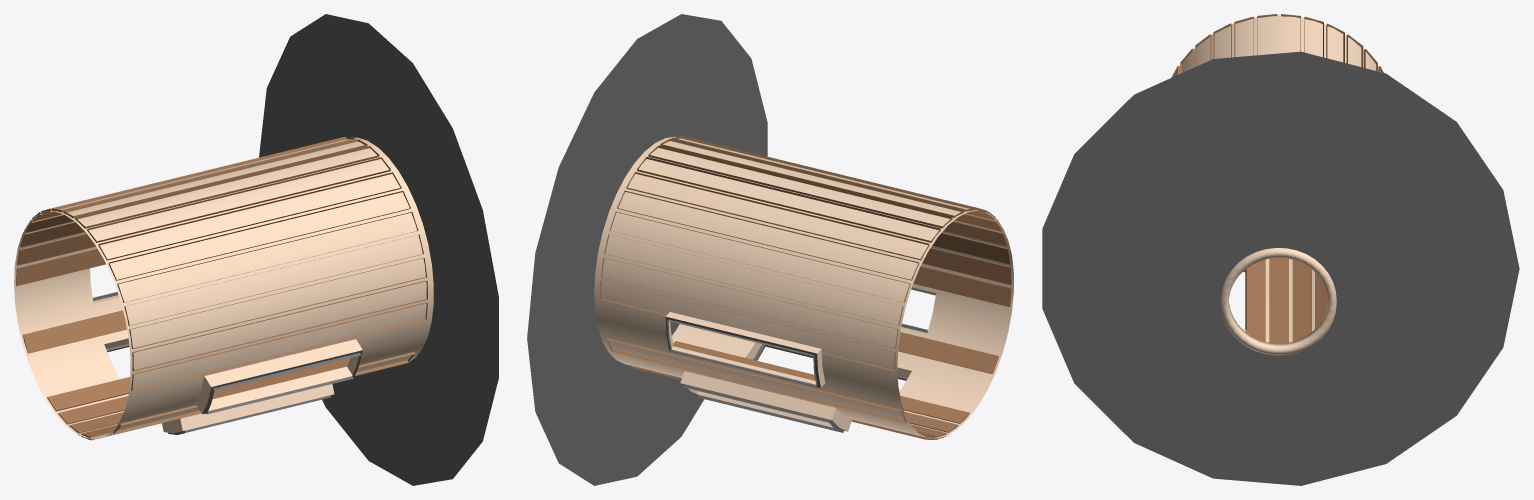
File: saunaRoom.fbx
3 views of the same model, side by side, from view 1: azimuth 30°, elevation 25°; view 2: azimuth 150°, elevation 25°; view 3: azimuth 270°, elevation 25° (orthographic).
Visible parts, largest first — view 1: saunaRoom; view 2: saunaRoom; view 3: saunaRoom.
Part boxes in pixels (box(x1,y1,x2,y2)): saunaRoom: box(14, 14, 498, 485); saunaRoom: box(527, 14, 1013, 485); saunaRoom: box(1042, 14, 1519, 485).
Bounding box in the file's own units: 343 × 414 × 412.
